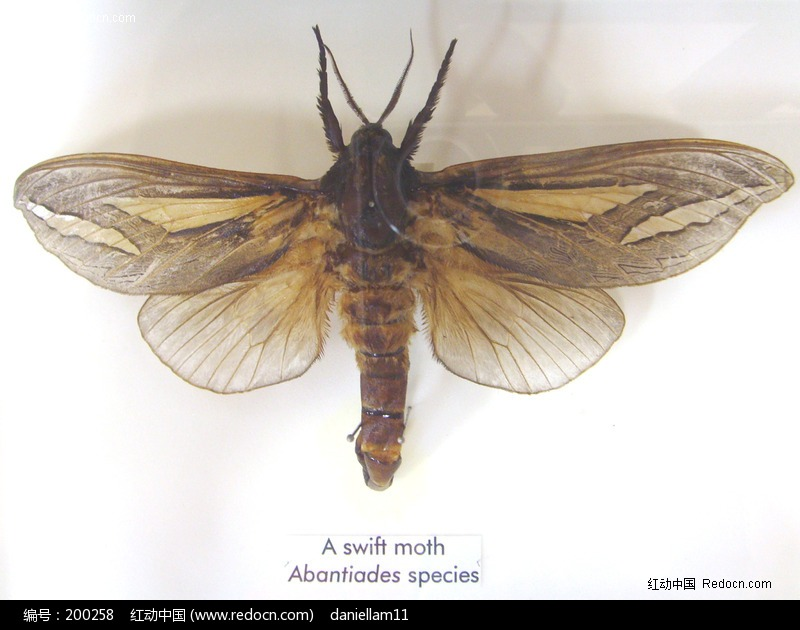feie: (15, 67, 789, 463)
